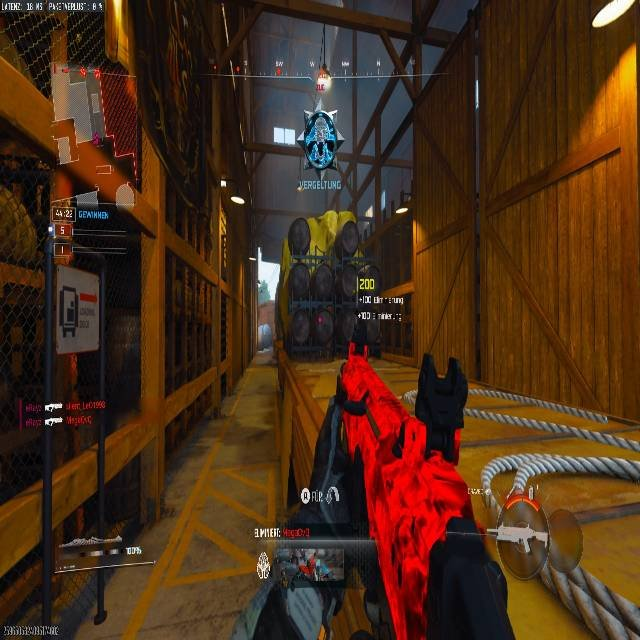player: (300, 107, 341, 177)
